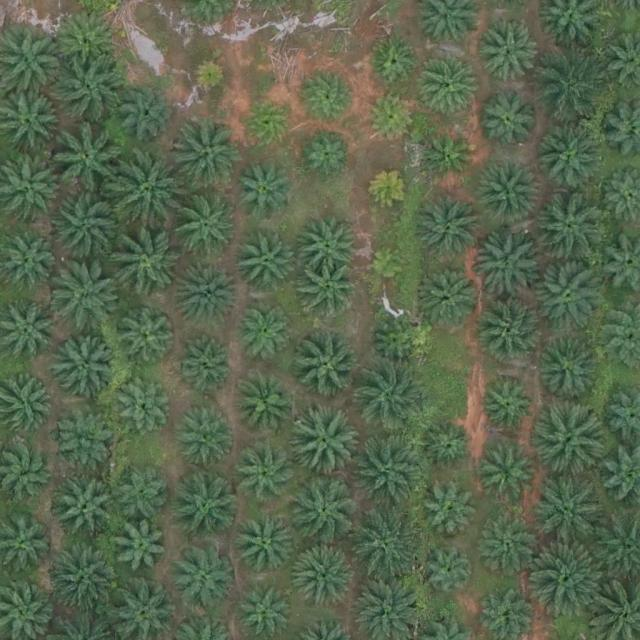Healthy: (475, 232, 546, 303), (414, 191, 485, 262), (356, 437, 427, 508), (287, 409, 358, 480), (47, 547, 118, 618), (535, 264, 605, 335), (535, 400, 605, 471), (534, 476, 604, 547), (532, 545, 602, 616), (358, 361, 428, 432), (351, 511, 421, 582), (292, 330, 362, 401), (289, 476, 359, 547), (51, 192, 122, 262), (51, 265, 121, 336), (536, 57, 607, 127), (537, 190, 607, 260), (109, 227, 179, 297), (172, 119, 242, 189), (112, 159, 182, 229), (53, 127, 123, 197), (57, 54, 127, 124), (484, 301, 547, 364), (422, 264, 485, 327), (297, 214, 360, 277), (295, 544, 358, 607), (235, 233, 298, 296), (235, 373, 298, 436), (234, 515, 297, 578), (174, 478, 237, 541), (172, 546, 235, 609), (117, 303, 180, 366), (52, 407, 115, 470), (57, 481, 120, 544), (475, 94, 538, 157), (415, 54, 478, 117), (539, 339, 601, 402), (476, 162, 538, 225), (231, 160, 293, 223), (237, 446, 299, 509), (177, 195, 239, 258), (174, 267, 237, 329), (175, 403, 237, 466), (55, 338, 117, 401), (541, 125, 603, 188), (480, 17, 542, 80), (56, 10, 118, 73), (484, 453, 539, 508), (481, 518, 536, 573), (424, 487, 479, 542), (422, 546, 477, 601), (371, 318, 426, 373), (303, 264, 358, 319), (238, 309, 293, 364), (178, 336, 233, 391), (114, 522, 169, 577), (240, 96, 295, 151), (303, 69, 358, 124), (303, 127, 358, 182), (364, 89, 419, 144), (369, 34, 424, 89), (123, 85, 178, 140), (482, 380, 536, 436), (421, 423, 475, 478), (116, 379, 170, 434), (116, 467, 170, 522), (3, 236, 57, 291), (422, 127, 476, 182)
Yellow: (367, 165, 414, 213), (188, 58, 228, 98), (370, 246, 409, 285)
